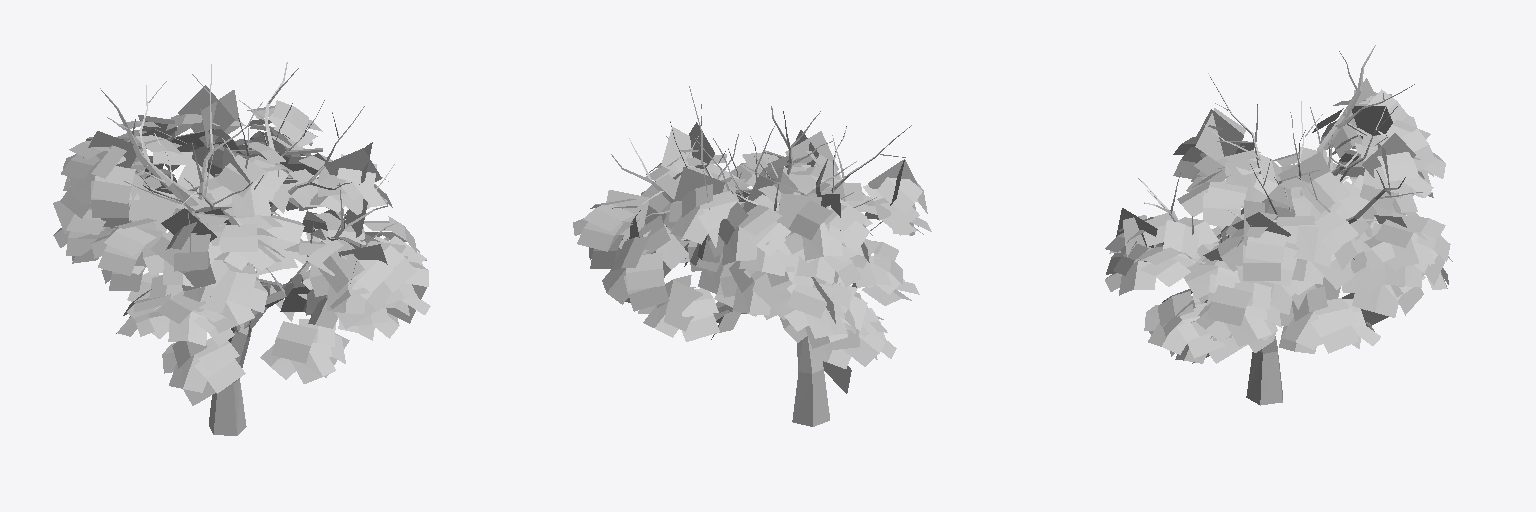
The model's file is tree4a_lod1.obj.
3 views of the same model, side by side, from view 1: azimuth 30°, elevation 25°; view 2: azimuth 150°, elevation 25°; view 3: azimuth 270°, elevation 25° (orthographic).
Parts seen in each view (by area): view 1: leaves 0.0 0.[number redacted] 0.0 0 0 0 0.[number redacted] 0.[number redacted] 0., bark 0.[number redacted] -0.[number redacted] -0.[number redacted]; view 2: leaves 0.0 0.[number redacted] 0.0 0 0 0 0.[number redacted] 0.[number redacted] 0., bark 0.[number redacted] -0.[number redacted] -0.[number redacted]; view 3: leaves 0.0 0.[number redacted] 0.0 0 0 0 0.[number redacted] 0.[number redacted] 0., bark 0.[number redacted] -0.[number redacted] -0.[number redacted].
Part boxes in pixels (x1,y1,x2,y2): leaves 0.0 0.[number redacted] 0.0 0 0 0 0.[number redacted] 0.[number redacted] 0.: (53, 85, 430, 405); bark 0.[number redacted] -0.[number redacted] -0.[number redacted]: (100, 62, 397, 435); leaves 0.0 0.[number redacted] 0.0 0 0 0 0.[number redacted] 0.[number redacted] 0.: (573, 122, 931, 393); bark 0.[number redacted] -0.[number redacted] -0.[number redacted]: (611, 86, 911, 426); leaves 0.0 0.[number redacted] 0.0 0 0 0 0.[number redacted] 0.[number redacted] 0.: (1105, 78, 1452, 363); bark 0.[number redacted] -0.[number redacted] -0.[number redacted]: (1138, 45, 1422, 405).
Size of the model in its own units: 0.9641 by 1 by 1.